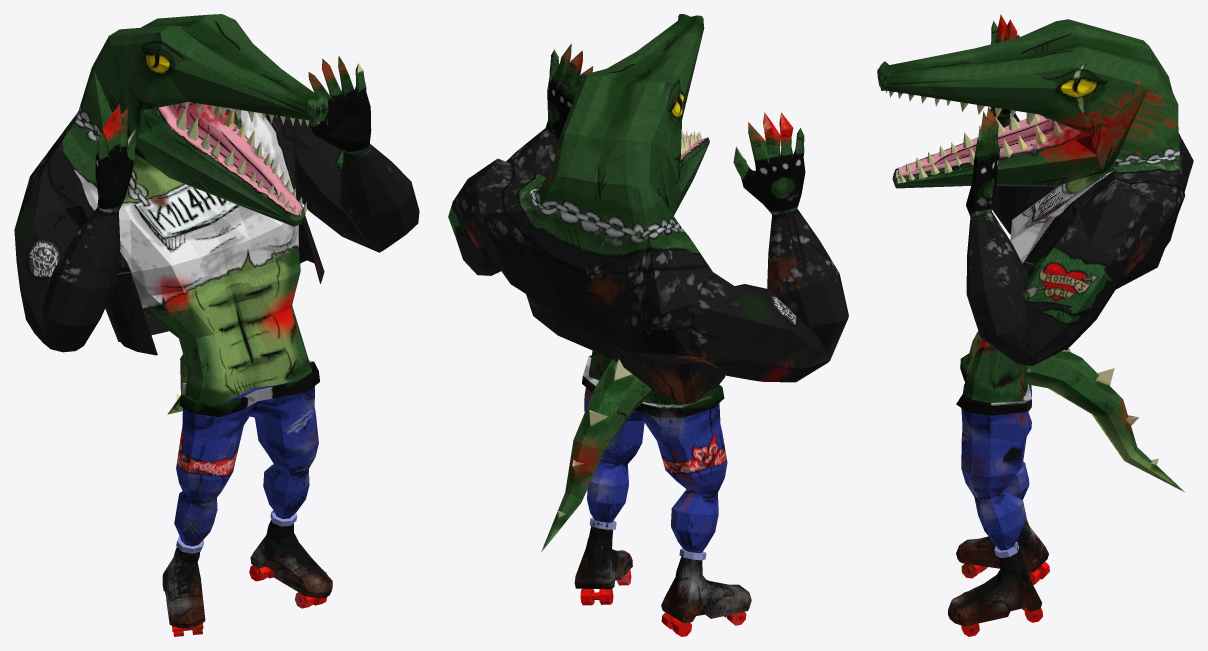
The model's file is cocodrilaBonesSelect_000019.obj.
3 renders of one model, left to right at view 1: azimuth 30°, elevation 25°; view 2: azimuth 150°, elevation 25°; view 3: azimuth 270°, elevation 25°, orthographic.
Parts seen in each view (by area): view 1: Crocodile.002_Cylinder.002; view 2: Crocodile.002_Cylinder.002; view 3: Crocodile.002_Cylinder.002.
Boxes of the visible parts, <box> form: Crocodile.002_Cylinder.002: <box>14,14,419,636</box>; Crocodile.002_Cylinder.002: <box>448,14,848,636</box>; Crocodile.002_Cylinder.002: <box>877,14,1193,636</box>.
Bounding box in the file's own units: 4.56 × 6.63 × 3.36.
